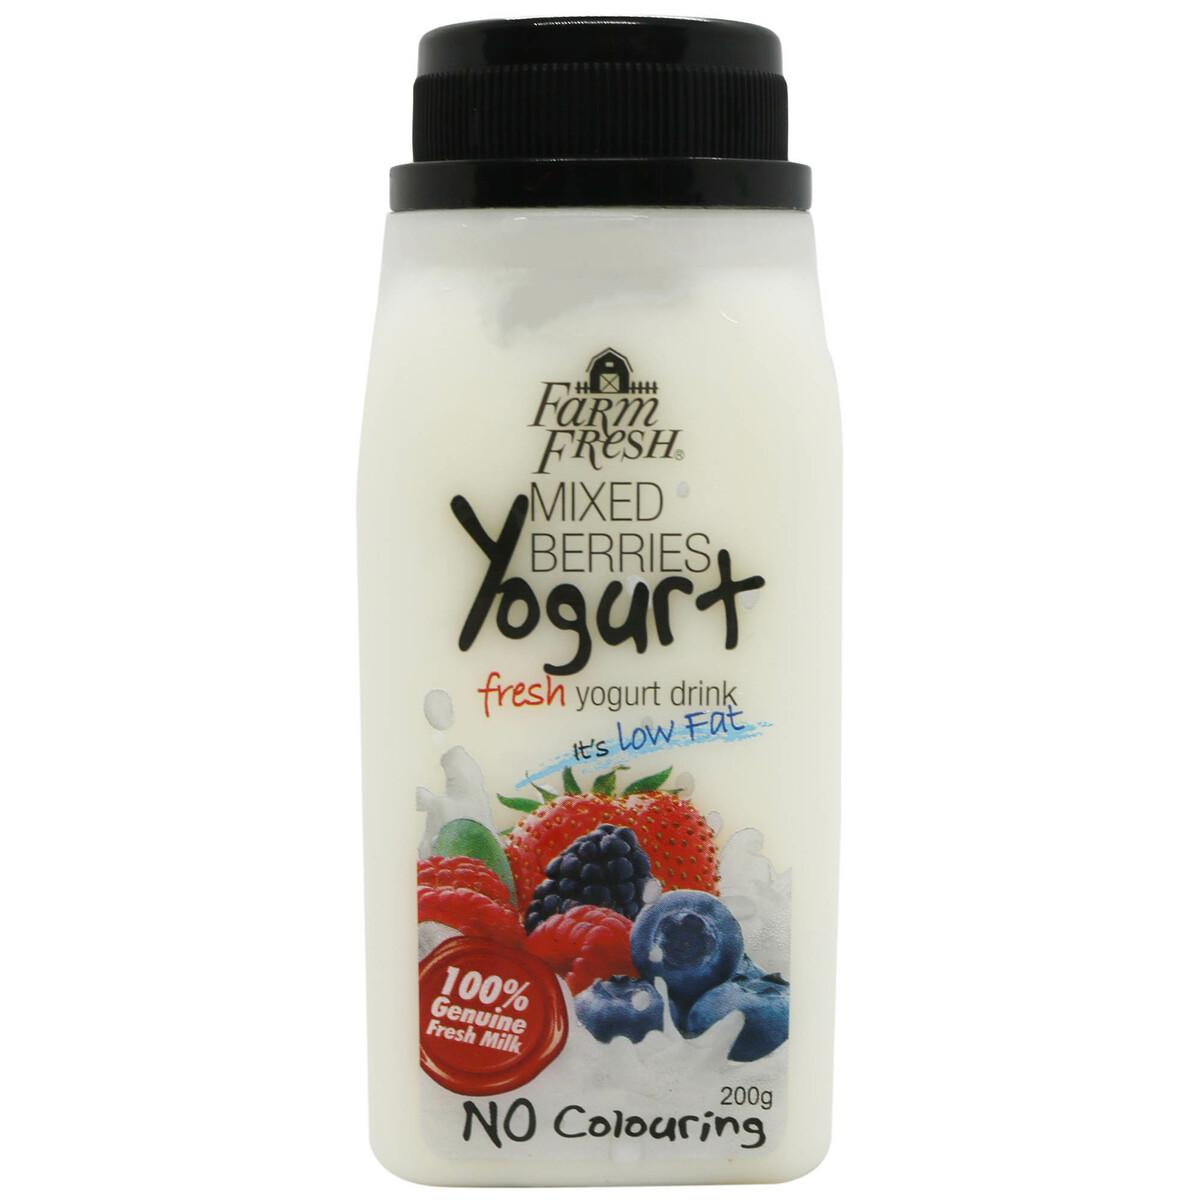bottle: (353, 16, 846, 1200)
